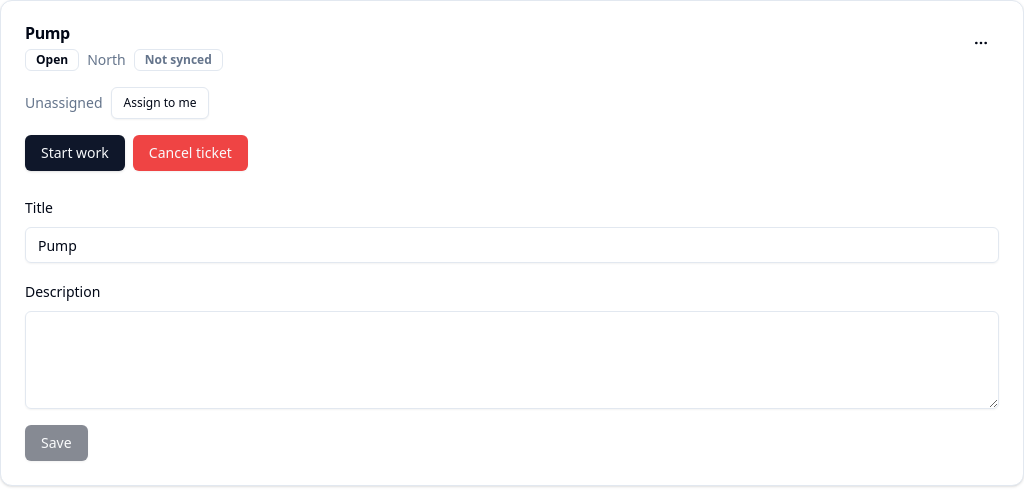
it: ticket card › assigns the ticket to the viewer and back
Later steps or results of the test are not shown.
Click the button "Assign to me". click: (160, 103)
box: [110,87,209,119]
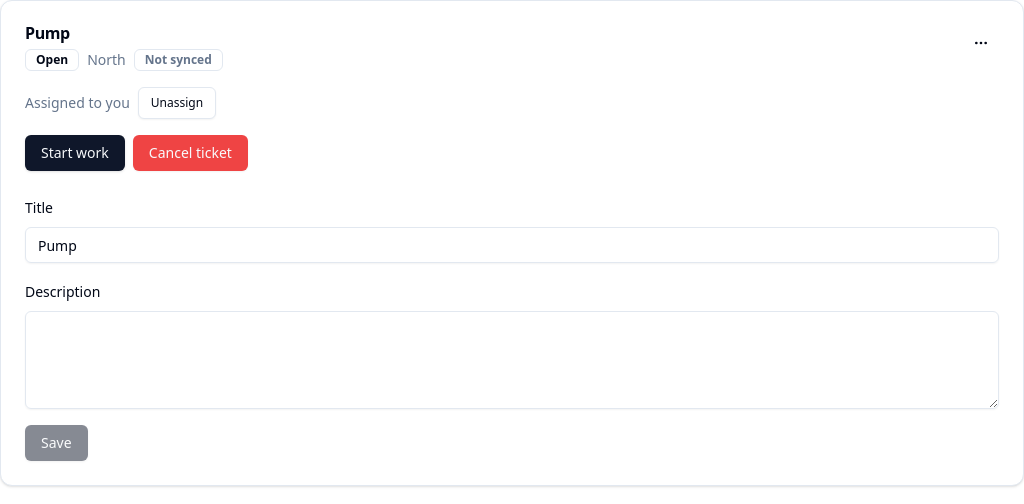
Expected: the text "Assigned to you" is shown, [25,93,130,113]
